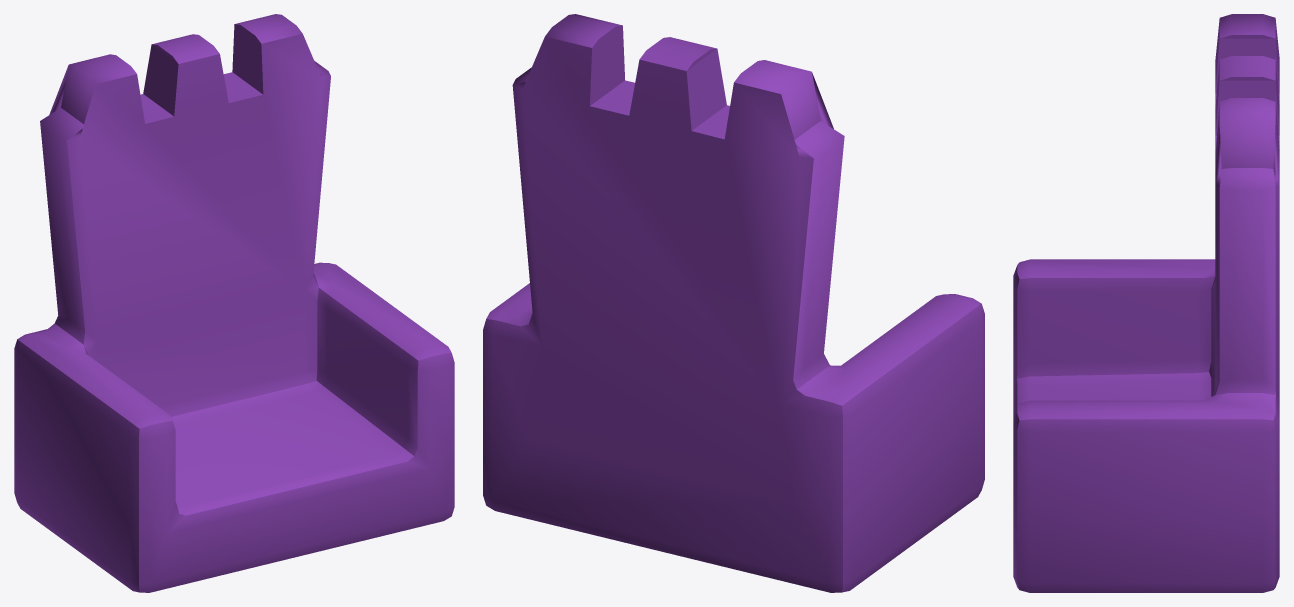
The model's file is sofa - 복사본.fbx.
The picture shows the model from 3 angles, left to right: view 1: azimuth 30°, elevation 25°; view 2: azimuth 150°, elevation 25°; view 3: azimuth 270°, elevation 25°; orthographic projection. The views are drawn at different scales.
Visible parts, largest first — view 1: Box001; view 2: Box001; view 3: Box001.
Part boxes in pixels (left/top/right/bottom): Box001: left=14, top=14, right=454, bottom=592; Box001: left=483, top=14, right=984, bottom=592; Box001: left=1013, top=14, right=1279, bottom=592.
Size of the model in its own units: 58 by 74.55 by 40.
